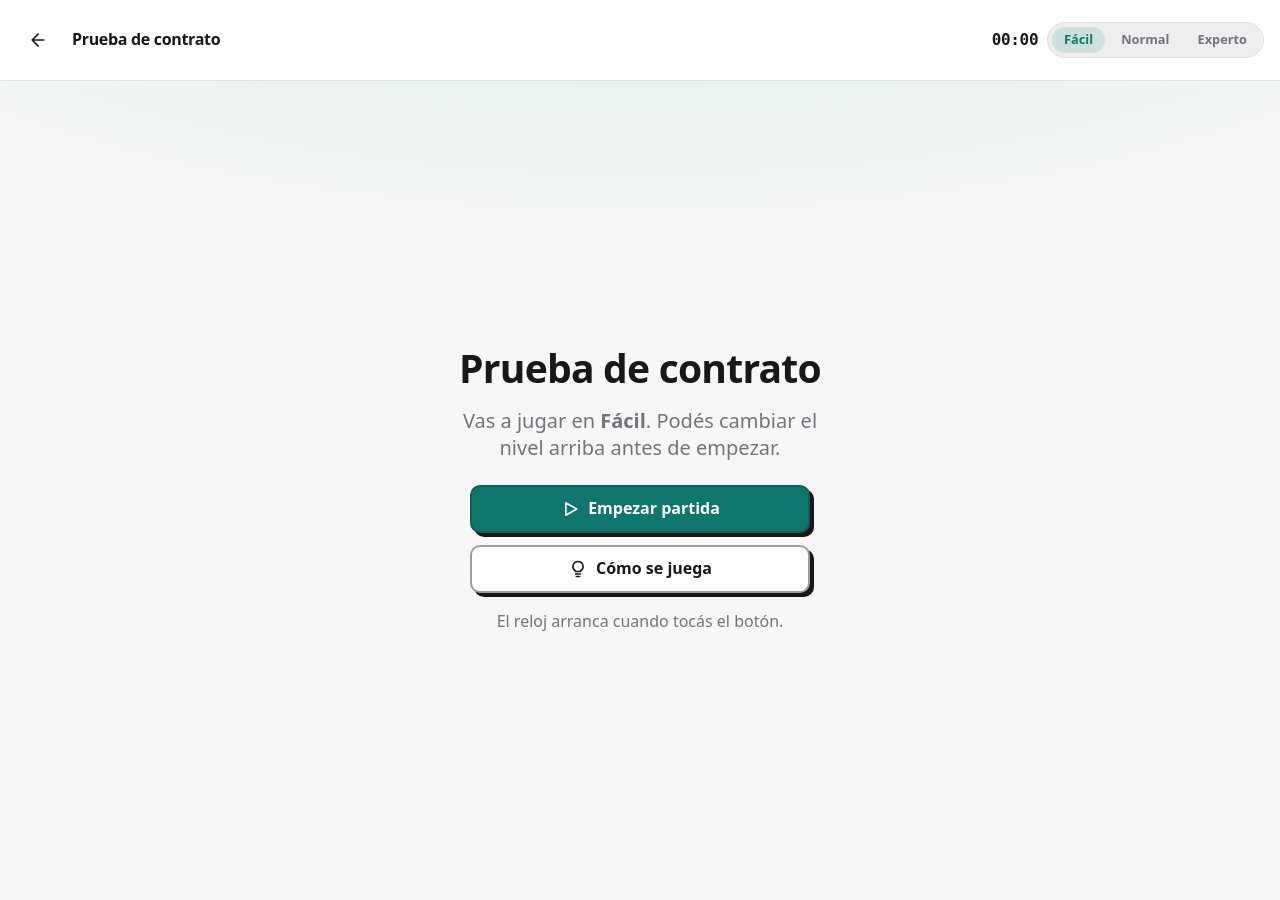
changing difficulty › asks before throwing away a board with moves on it
What coordinates should you click on to do the following:
click the button "Empezar partida"
I would click on:
 (640, 509)
Its box is [470,485,810,533].
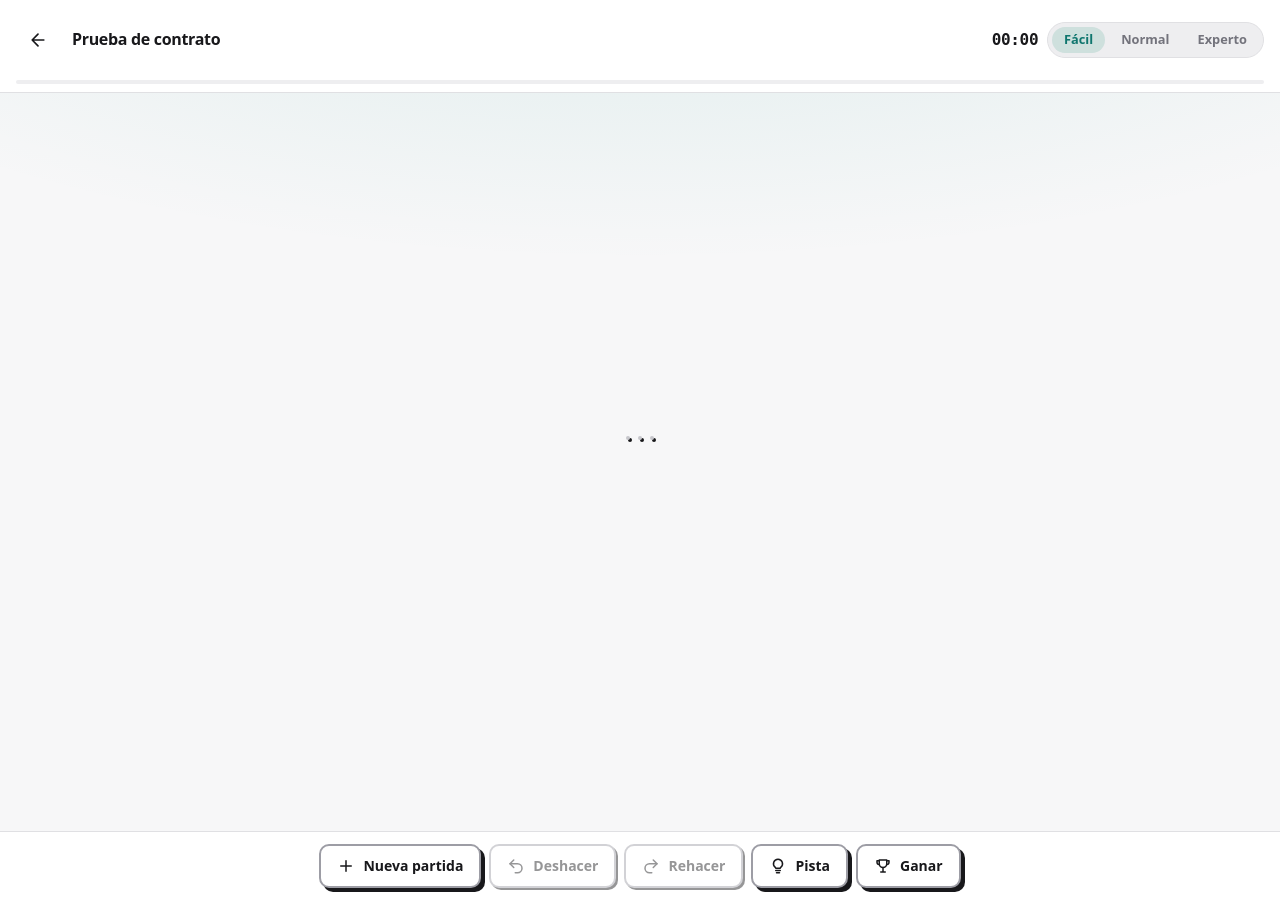
What coordinates should you click on to do the following:
click the button named "Casilla"
I would click on:
 (628, 438)
Its box is [626,436,630,440].
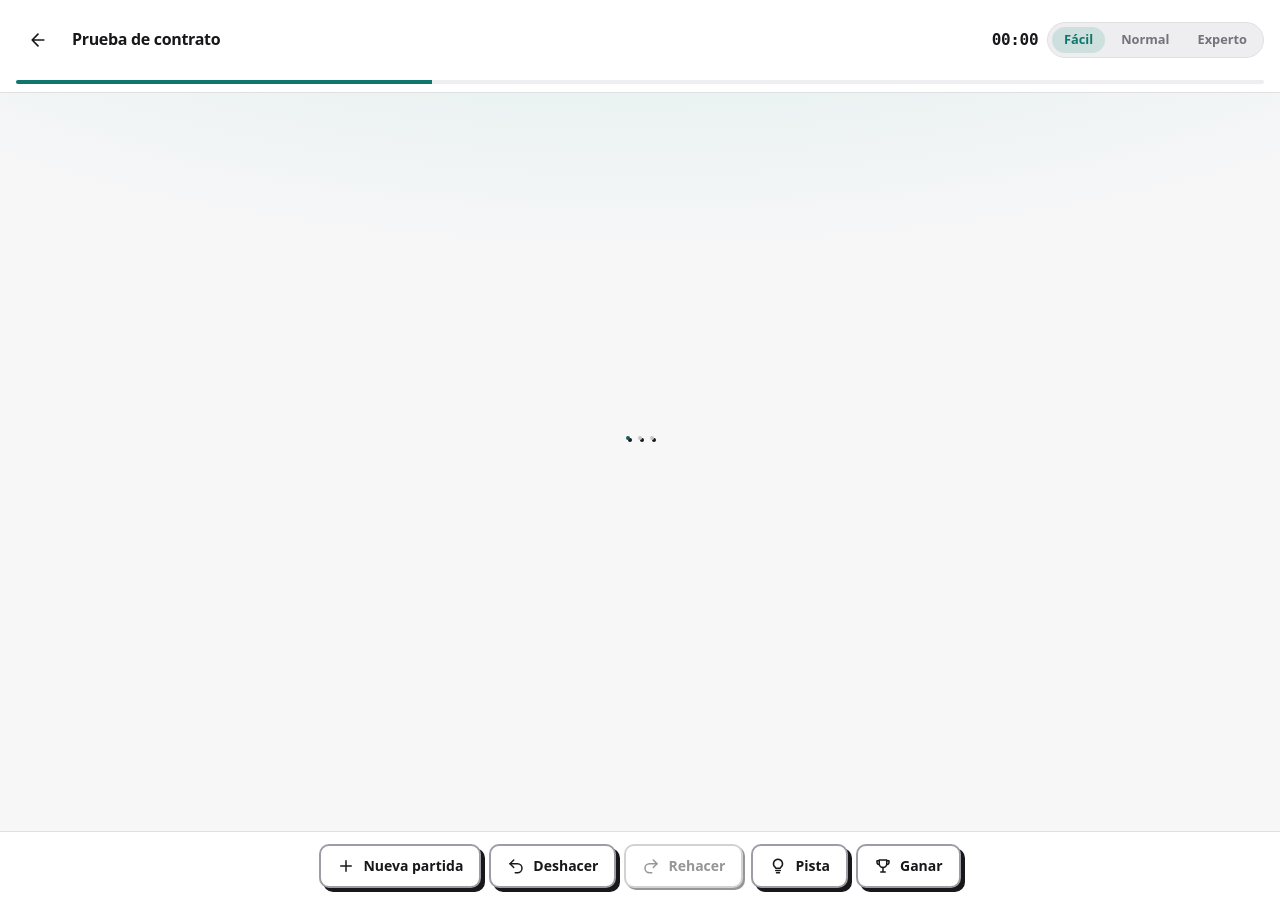
What coordinates should you click on to do the following:
click the radio button labelled "Experto"
I would click on:
 (1222, 40)
Its box is [1186,27,1259,53].
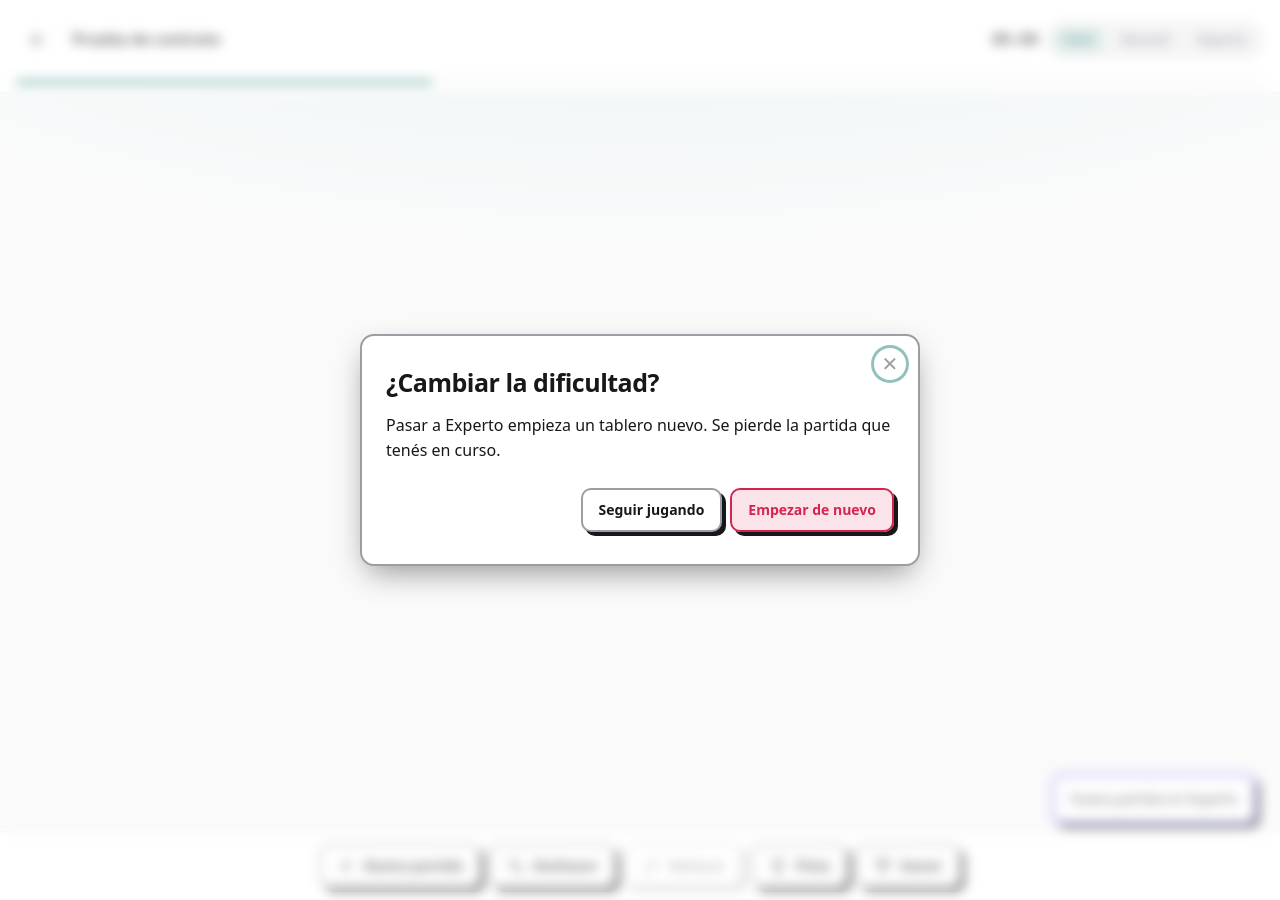
Expected: the heading "¿Cambiar la dificultad?" is shown, [386,365,659,399]
